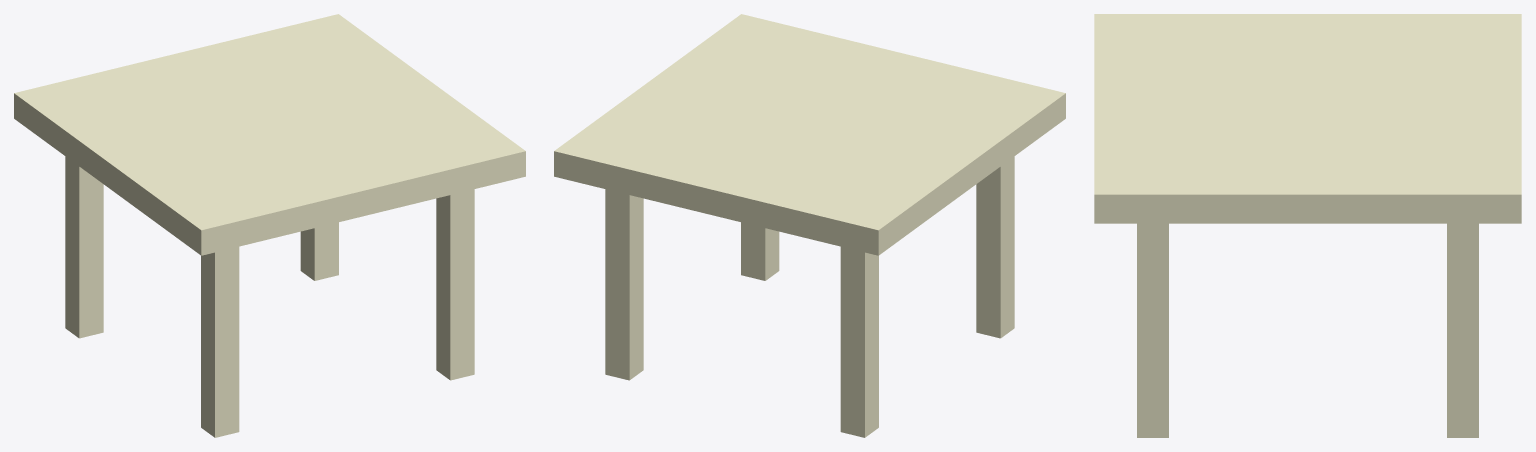
File: Table_Small.glb
3 views of the same model, side by side, from view 1: azimuth 30°, elevation 25°; view 2: azimuth 150°, elevation 25°; view 3: azimuth 270°, elevation 25° (orthographic). The views are drawn at different scales.
Visible parts, largest first — view 1: Table Small; view 2: Table Small; view 3: Table Small.
Boxes of the visible parts, bbox=[...] form: Table Small: bbox=[14, 14, 525, 437]; Table Small: bbox=[554, 14, 1065, 437]; Table Small: bbox=[1094, 14, 1521, 437].
Bounding box in the file's own units: 1 × 0.675 × 1.
